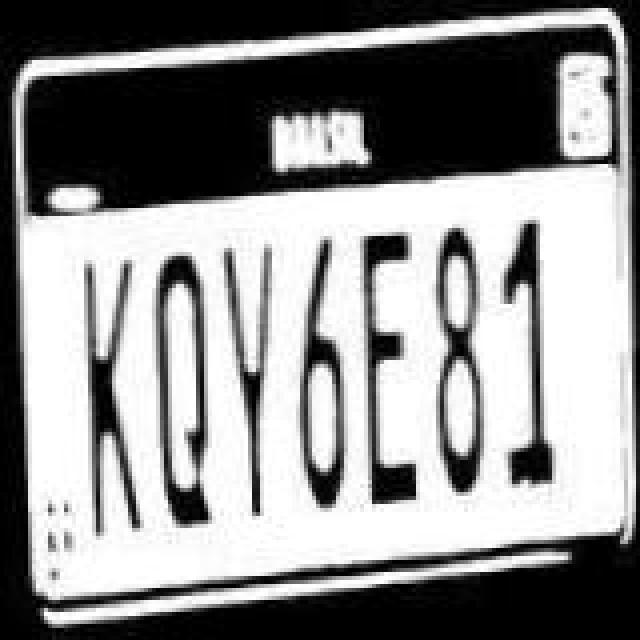1: (490, 212, 566, 492)
6: (284, 232, 356, 512)
8: (426, 216, 494, 496)
E: (354, 228, 430, 512)
K: (76, 256, 148, 544)
Q: (142, 244, 218, 532)
Y: (216, 238, 280, 518)
